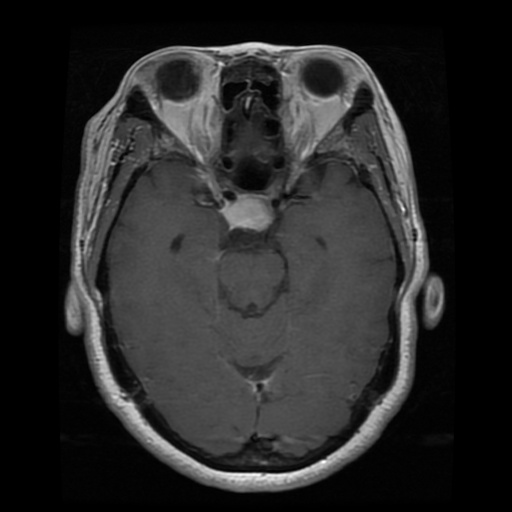pituitary: (221, 194, 274, 232)
